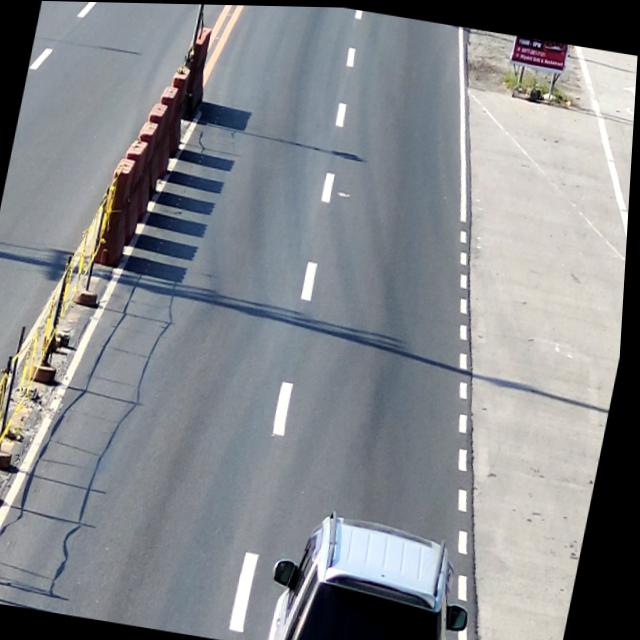Car: (265, 502, 493, 640)
